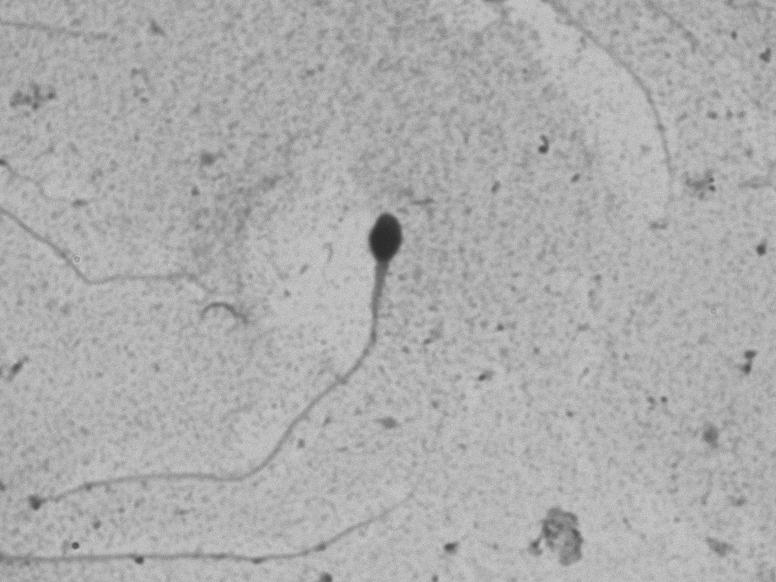Abnormal: (55, 159, 439, 512)
